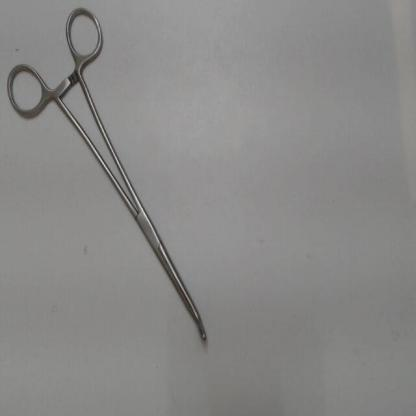Lahey Forceps: (1, 2, 212, 349)
